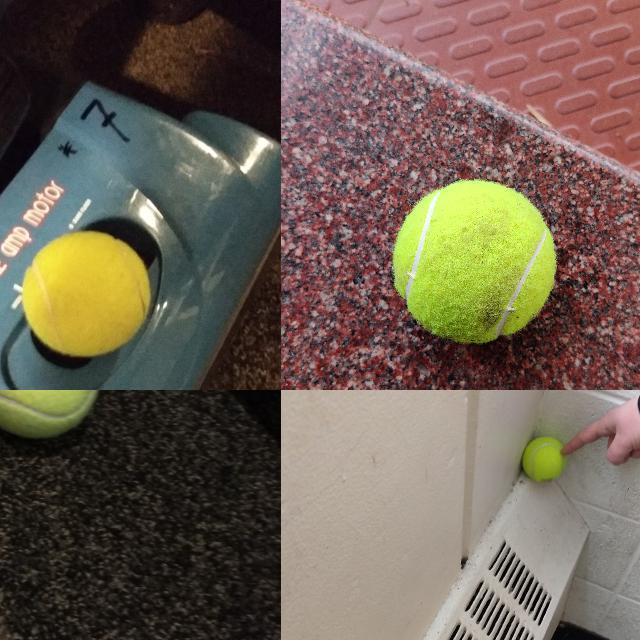tennis-ball: (393, 180, 555, 343), (21, 231, 151, 358), (0, 390, 101, 439), (521, 436, 567, 481)
